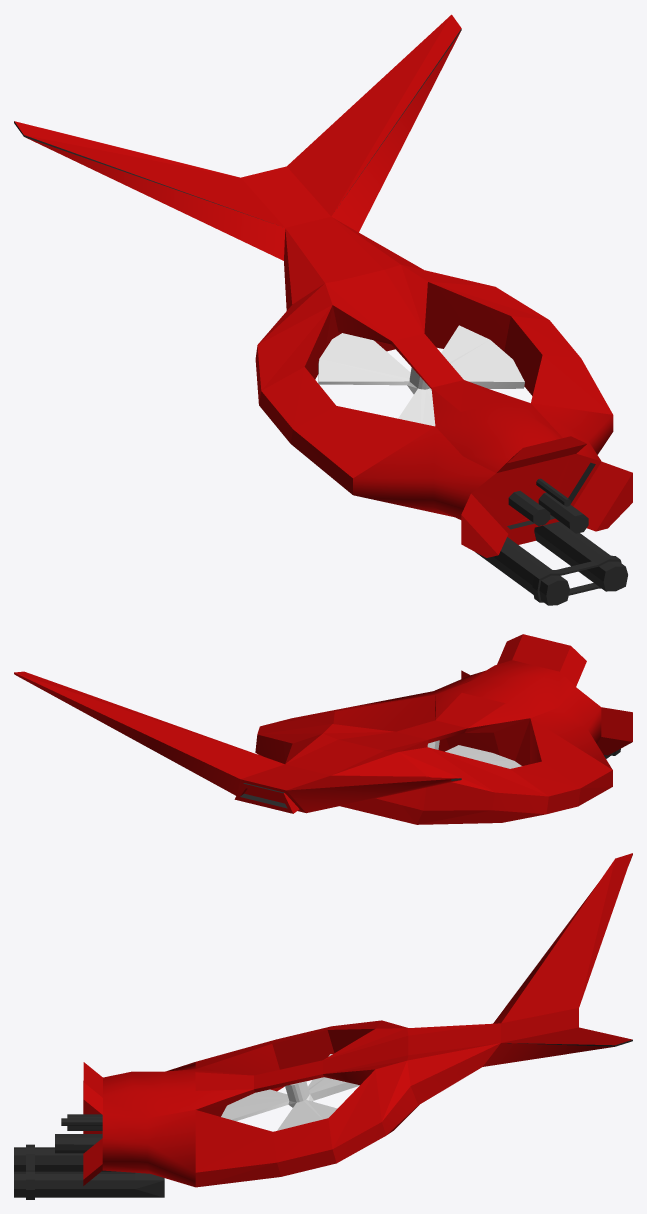
Rendered from GunDrone.fbx.
3 views of the same model, one above another, from view 1: azimuth 30°, elevation 25°; view 2: azimuth 150°, elevation 25°; view 3: azimuth 270°, elevation 25° (orthographic). The views are drawn at different scales.
Parts seen in each view (by area): view 1: LightGunDrone, LGD-Propeller; view 2: LightGunDrone, LGD-Propeller; view 3: LightGunDrone, LGD-Propeller.
Part boxes in pixels (x1=…): LightGunDrone: x1=14, y1=14, x2=632, y2=605; LGD-Propeller: x1=318, y1=325, x2=524, y2=426; LightGunDrone: x1=14, y1=634, x2=632, y2=824; LGD-Propeller: x1=427, y1=740, x2=521, y2=768; LightGunDrone: x1=14, y1=853, x2=632, y2=1199; LGD-Propeller: x1=221, y1=1054, x2=359, y2=1130.
Size of the model in its own units: 230 by 137 by 322.
2 materials, 1 textured.
